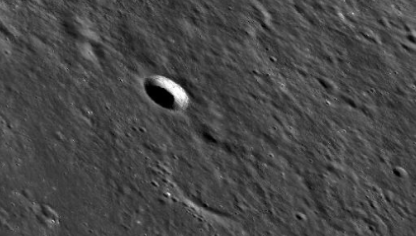crater: (106, 41, 282, 175)
